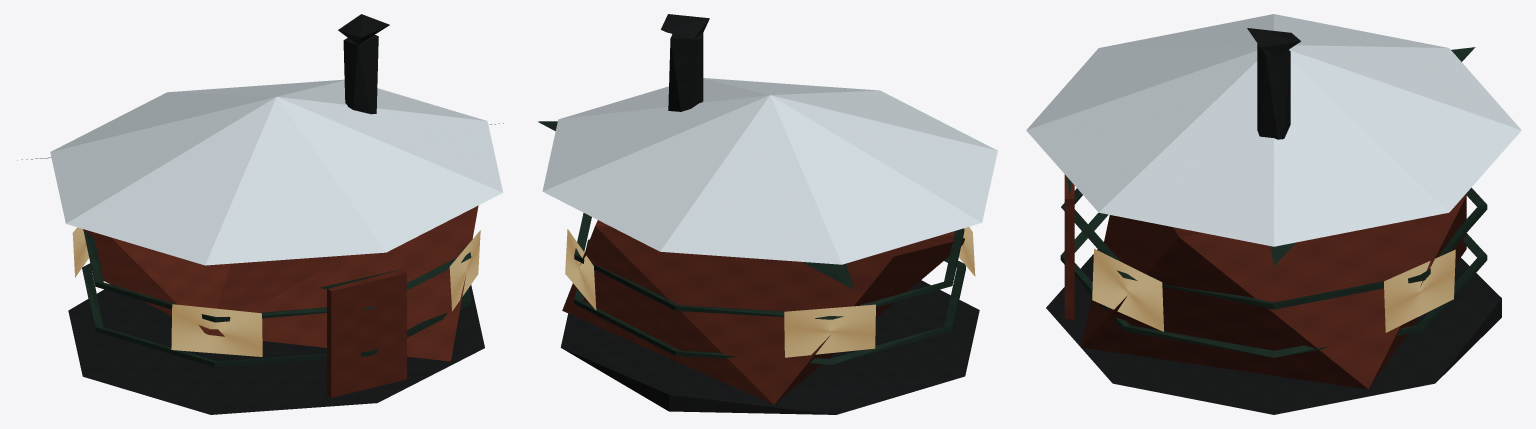
The model's file is summit-hut-lod.glb.
The picture shows the model from 3 angles, left to right: view 1: azimuth 30°, elevation 25°; view 2: azimuth 150°, elevation 25°; view 3: azimuth 270°, elevation 25°; orthographic projection. The views are drawn at different scales.
Parts seen in each view (by area): view 1: summit-hut-warming-hut_3, summit-hut-warming-hut_0, summit-hut-warming-hut_1, summit-hut-warming-hut_4, summit-hut-warming-hut_5, summit-hut-warming-hut_2; view 2: summit-hut-warming-hut_3, summit-hut-warming-hut_1, summit-hut-warming-hut_0, summit-hut-warming-hut_2, summit-hut-warming-hut_5; view 3: summit-hut-warming-hut_3, summit-hut-warming-hut_1, summit-hut-warming-hut_0, summit-hut-warming-hut_2, summit-hut-warming-hut_5, summit-hut-warming-hut_4.
Part boxes in pixels (x1=…): summit-hut-warming-hut_3: x1=50, y1=79, x2=503, y2=265; summit-hut-warming-hut_0: x1=68, y1=14, x2=484, y2=414; summit-hut-warming-hut_1: x1=83, y1=205, x2=478, y2=361; summit-hut-warming-hut_4: x1=327, y1=269, x2=406, y2=397; summit-hut-warming-hut_5: x1=72, y1=227, x2=480, y2=356; summit-hut-warming-hut_2: x1=17, y1=123, x2=503, y2=367; summit-hut-warming-hut_3: x1=542, y1=78, x2=997, y2=264; summit-hut-warming-hut_1: x1=562, y1=220, x2=964, y2=404; summit-hut-warming-hut_0: x1=560, y1=14, x2=979, y2=414; summit-hut-warming-hut_2: x1=538, y1=121, x2=965, y2=364; summit-hut-warming-hut_5: x1=565, y1=227, x2=975, y2=357; summit-hut-warming-hut_3: x1=1026, y1=14, x2=1521, y2=246; summit-hut-warming-hut_1: x1=1081, y1=194, x2=1466, y2=389; summit-hut-warming-hut_0: x1=1046, y1=28, x2=1501, y2=414; summit-hut-warming-hut_2: x1=1060, y1=47, x2=1487, y2=357; summit-hut-warming-hut_5: x1=1092, y1=248, x2=1455, y2=332; summit-hut-warming-hut_4: x1=1064, y1=174, x2=1074, y2=319.
Bounding box in the file's own units: 7 × 4.4 × 6.
5 materials, 5 textured.
